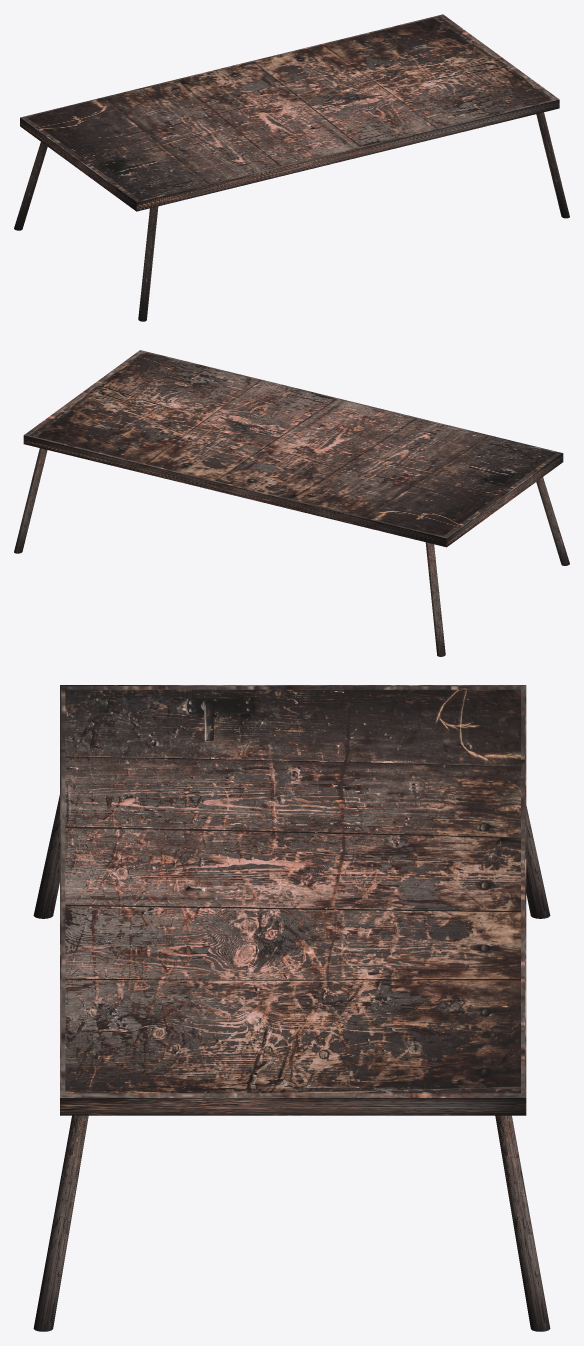
File: wooden table.fbx
The picture shows the model from 3 angles, top to bottom: view 1: azimuth 30°, elevation 25°; view 2: azimuth 150°, elevation 25°; view 3: azimuth 270°, elevation 25°; orthographic projection. The views are drawn at different scales.
Parts seen in each view (by area): view 1: Cube; view 2: Cube; view 3: Cube.
Boxes of the visible parts, bbox=[...] form: Cube: bbox=[14, 14, 569, 321]; Cube: bbox=[14, 350, 569, 656]; Cube: bbox=[33, 685, 550, 1331].
Bounding box in the file's own units: 673 × 171 × 350.
